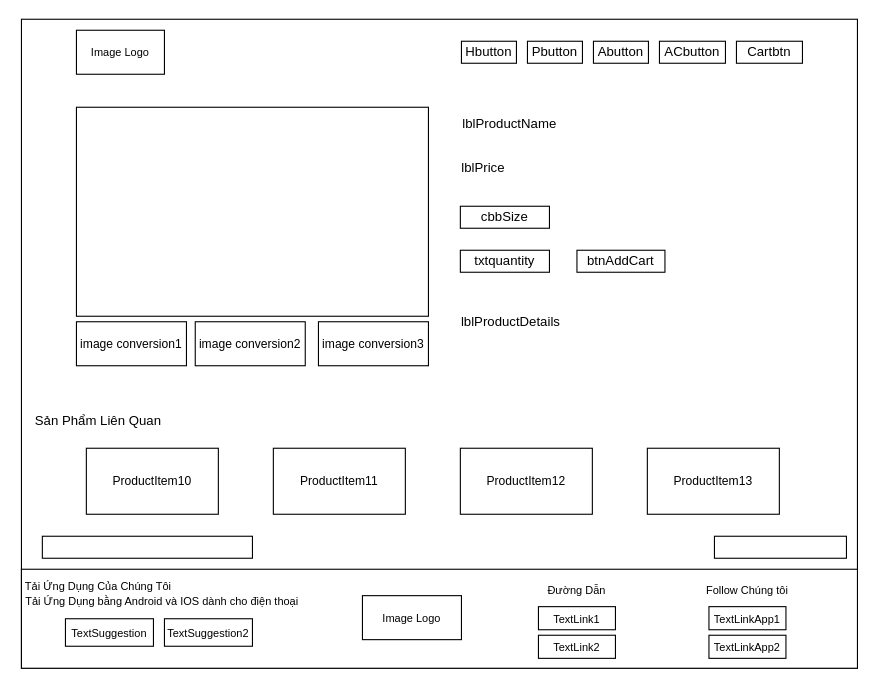
Image size: 877x688. Some labels were removed from this diagram. The centre of each missing label's shape, as x and y in pixels:
btnNextPage: point (146, 546)
btnSeeMore: point (779, 546)
ImageProduct: point (251, 211)
